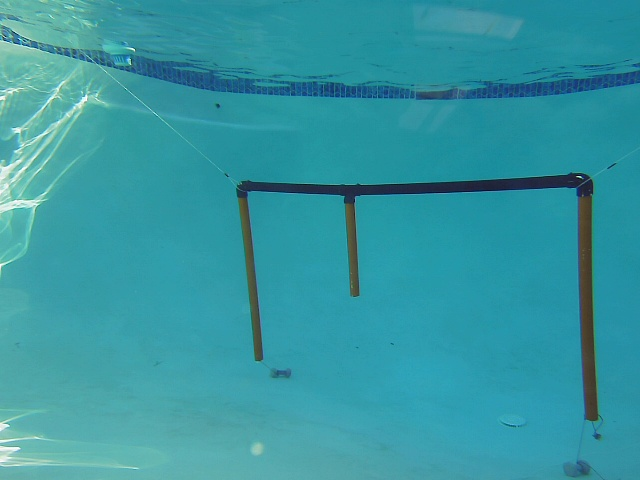Gate: (236, 189, 267, 362), (577, 194, 597, 418), (340, 196, 363, 293)
